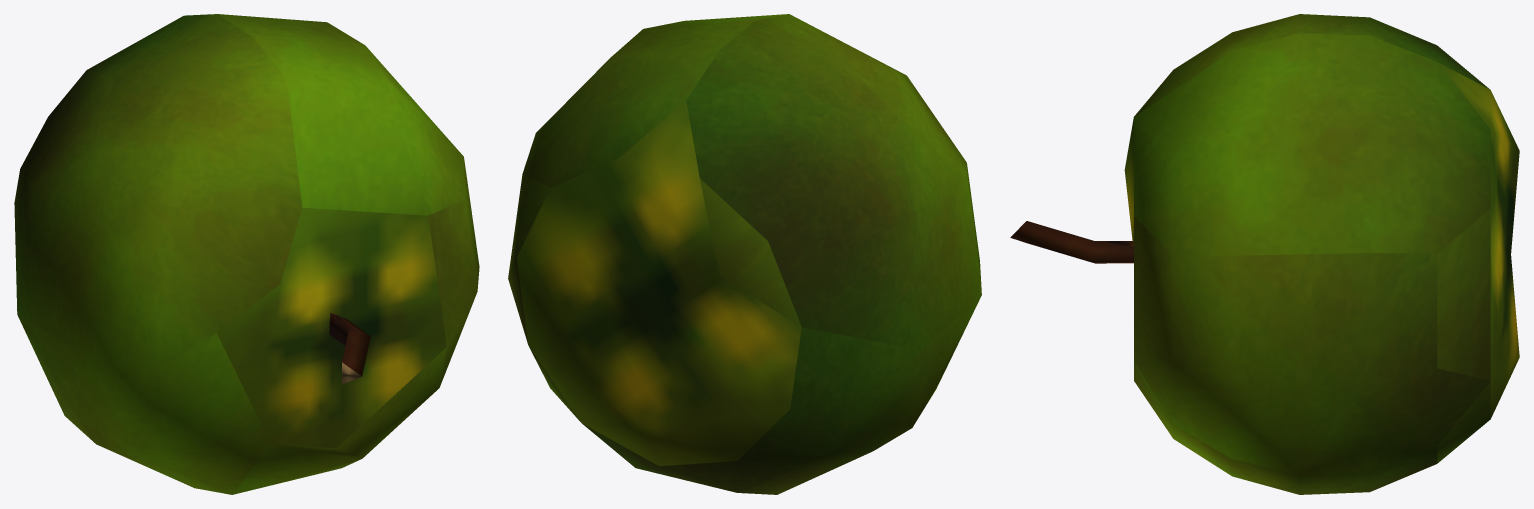
The model's file is ItFo_Apple.fbx.
3 views of the same model, side by side, from view 1: azimuth 30°, elevation 25°; view 2: azimuth 150°, elevation 25°; view 3: azimuth 270°, elevation 25° (orthographic).
Parts seen in each view (by area): view 1: 3DSMesh_0; view 2: 3DSMesh_0; view 3: 3DSMesh_0.
Part boxes in pixels (x1,y1,x2,y2): 3DSMesh_0: (14, 14, 479, 494); 3DSMesh_0: (508, 14, 981, 494); 3DSMesh_0: (1010, 14, 1519, 494).
Bounding box in the file's own units: 13.06 × 13.87 × 14.47.
